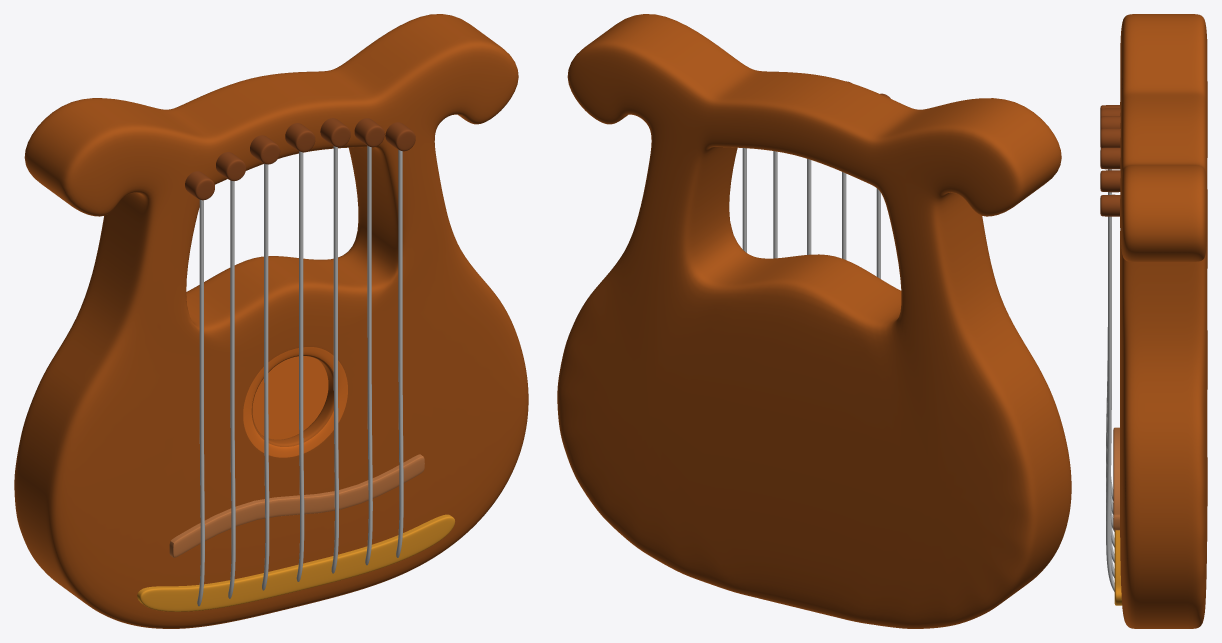
The model's file is lyre-3d-icon-695303745942.glb.
3 views of the same model, side by side, from view 1: azimuth 30°, elevation 25°; view 2: azimuth 150°, elevation 25°; view 3: azimuth 270°, elevation 25° (orthographic). The views are drawn at different scales.
Parts seen in each view (by area): view 1: Body, String, Bridge, Sound Hole, Accessories, String Posts; view 2: Body, String; view 3: Body, String Posts, String, Accessories, Bridge.
Boxes of the visible parts, left/top/right/bottom form: Body: left=14, top=14, right=528, bottom=628; String: left=197, top=146, right=403, bottom=606; Bridge: left=137, top=514, right=455, bottom=611; Sound Hole: left=243, top=347, right=347, bottom=457; Accessories: left=169, top=454, right=424, bottom=557; String Posts: left=185, top=118, right=415, bottom=200; Body: left=557, top=14, right=1071, bottom=628; String: left=742, top=148, right=880, bottom=278; Body: left=1120, top=14, right=1207, bottom=628; String Posts: left=1100, top=105, right=1120, bottom=216; String: left=1106, top=169, right=1114, bottom=591; Accessories: left=1113, top=427, right=1119, bottom=530; Bridge: left=1114, top=530, right=1122, bottom=605.
Size of the model in its own units: 1.85 by 1.94 by 0.3929.
